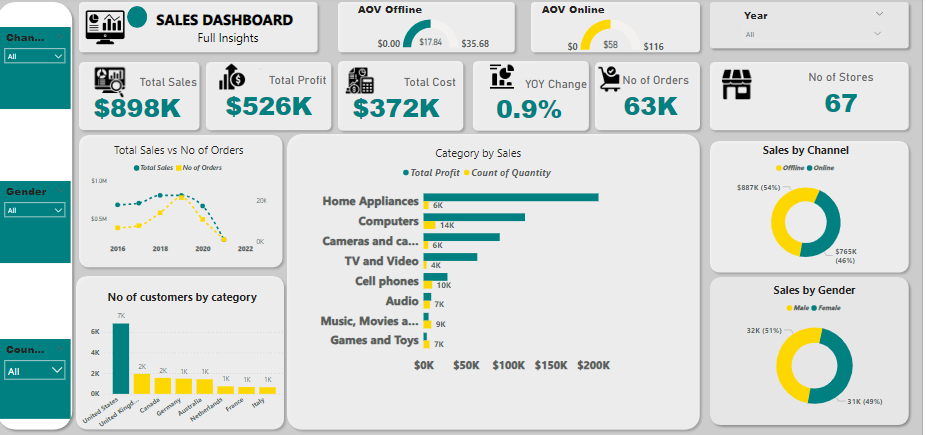

What the dashboard file says about the page in this screenshot:
{"tool":"powerbi","page":{"name":"Page 1","canvas":[1700,800],"ordinal":0},"visuals":[{"type":"image","box":[341.3,122.4,301,15.8],"z":0},{"type":"shape","box":[0,0,155.7,800],"z":1000},{"type":"shape","box":[150,110,238.6,142.9],"z":2000},{"type":"shape","box":[382.9,110,247.1,142.9],"z":3000},{"type":"shape","box":[622.9,107.1,247.1,145.7],"z":4000},{"type":"shape","box":[144.3,501.4,398.6,298.6],"z":5000},{"type":"shape","box":[870,107.1,230,145.7],"z":6000},{"type":"shape","box":[150,242.9,390,260],"z":7000},{"type":"shape","box":[530,241.4,772.9,558.6],"z":8000},{"type":"shape","box":[150,0,454.3,110],"z":9000},{"type":"textbox","box":[247.1,15.7,357.1,57.1],"z":10000},{"type":"textbox","box":[341.4,54.3,178.6,40],"z":11000},{"type":"shape","box":[247.1,15.7,37.1,40],"z":12000},{"type":"card","title":"Total Sales","fields":{"Values":["Sum(Electronics Product Analysis.Revenue)"]},"box":[150,142.9,230,92.9],"z":13000},{"type":"card","title":"Total Profit","fields":{"Values":["Sum(Electronics Product Analysis.Profit)"]},"box":[395.7,138.6,221.4,92.9],"z":14000},{"type":"card","title":"Total Cost","fields":{"Values":["Sum(Electronics Product Analysis. Unit Cost)"]},"box":[622.9,142.9,230,92.9],"z":15000},{"type":"card","title":"YOY Change","fields":{"Values":["All measures.YOY Change"]},"box":[870,147.1,222.9,88.6],"z":16000},{"type":"shape","box":[1092.9,110,210,142.9],"z":17000},{"type":"card","title":"No of Orders","fields":{"Values":["CountNonNull(Sales.Order Number)"]},"box":[1128.6,138.6,151.4,92.9],"z":18000},{"type":"lineChart","title":"Total Sales vs No of Orders","fields":{"Category":["Sales.Year"],"Y":["All measures.Total Sales"],"Y2":["CountNonNull(Sales.Order Number)"]},"box":[175.7,265.7,331.4,212.9],"z":19000},{"type":"clusteredBarChart","title":"Category by Sales","fields":{"Y":["All measures.Total Profit","CountNonNull(Sales.Quantity)"],"Category":["Electronics Product Analysis.Category"]},"box":[575.7,271.4,625.7,427.1],"z":20000},{"type":"shape","box":[1302.9,254.3,381.4,258.6],"z":21000},{"type":"clusteredColumnChart","title":"No of customers by category","fields":{"Y":["CountNonNull(Customers.CustomerKey)"],"Category":["Customers.Country"]},"box":[155.7,534.3,384.3,265.7],"z":22000},{"type":"donutChart","title":"Sales by Channel","fields":{"Category":["Sales.Means of Purchase"],"Y":["All measures.Total Sales"]},"box":[1352.9,264.3,270,237.1],"z":23000},{"type":"slicer","fields":{"Values":["Customers.Country"]},"box":[12.9,625.7,131.4,145.7],"z":24000},{"type":"slicer","fields":{"Values":["Customers.Gender"]},"box":[12.9,335.7,131.4,150],"z":25000},{"type":"slicer","fields":{"Values":["Sales.Means of Purchase"]},"box":[12.9,54.3,131.4,150],"z":26000},{"type":"shape","box":[1302.9,110,381.4,142.9],"z":27000},{"type":"shape","box":[1302.9,502.9,381.4,288.6],"z":28000},{"type":"shape","box":[1302.9,0,381.4,102.9],"z":29000},{"type":"donutChart","title":"Sales by Gender","fields":{"Y":["CountNonNull(Sales.Means of Purchase)"],"Category":["Customers.Gender"]},"box":[1340,521.4,327.1,250],"z":30000},{"type":"slicer","fields":{"Values":["Sales.Year"]},"box":[1361.4,17.1,280,78.6],"z":31000},{"type":"card","title":"No of Stores","fields":{"Values":["Count(Stores.StoreKey)"]},"box":[1437.1,134.3,230,92.9],"z":32000},{"type":"shape","box":[975.7,0,327.1,110],"z":33000},{"type":"gauge","title":"AOV Online","fields":{"Y":["All measures.OnlineAOV"]},"box":[1000,10,280,97.1],"z":34000},{"type":"shape","box":[622.9,0,341.4,110],"z":35000},{"type":"gauge","title":"AOV Offline","fields":{"Y":["All measures.OfflineAOV"]},"box":[662.9,10,285.7,92.9],"z":36000},{"type":"image","box":[165.7,0,81.4,110],"z":37000},{"type":"image","box":[127.1,122.9,174.3,67.1],"z":38000},{"type":"image","box":[301.4,117.1,274.3,57.1],"z":39000},{"type":"image","box":[530,121.4,284.3,64.3],"z":40000},{"type":"image","box":[852.9,117.1,157.1,57.1],"z":41000},{"type":"image","box":[1100,105.7,55.7,87.1],"z":42000},{"type":"image","box":[1302.9,127.1,115.7,64.3],"z":43000}]}

Visuals, with their boxes in screenshot pixels (x1, y1, x2, y2), scaled from the page's 1700x800 canvas onto the 926x435 screenshot:
image: detection(186, 67, 350, 75)
shape: detection(0, 0, 85, 434)
shape: detection(82, 60, 212, 138)
shape: detection(209, 60, 343, 138)
shape: detection(339, 58, 474, 137)
shape: detection(79, 273, 296, 434)
shape: detection(474, 58, 599, 137)
shape: detection(82, 132, 294, 273)
shape: detection(289, 131, 710, 434)
shape: detection(82, 0, 329, 60)
textbox: detection(135, 9, 329, 40)
textbox: detection(186, 30, 283, 51)
shape: detection(135, 9, 155, 30)
"Total Sales" card: detection(82, 78, 207, 128)
"Total Profit" card: detection(216, 75, 336, 126)
"Total Cost" card: detection(339, 78, 465, 128)
"YOY Change" card: detection(474, 80, 595, 128)
shape: detection(595, 60, 710, 138)
"No of Orders" card: detection(615, 75, 697, 126)
"Total Sales vs No of Orders" lineChart: detection(96, 144, 276, 260)
"Category by Sales" clusteredBarChart: detection(314, 148, 654, 380)
shape: detection(710, 138, 917, 279)
"No of customers by category" clusteredColumnChart: detection(85, 291, 294, 434)
"Sales by Channel" donutChart: detection(737, 144, 884, 273)
slicer - Customers.Country: detection(7, 340, 79, 419)
slicer - Customers.Gender: detection(7, 183, 79, 264)
slicer - Sales.Means of Purchase: detection(7, 30, 79, 111)
shape: detection(710, 60, 917, 138)
shape: detection(710, 273, 917, 430)
shape: detection(710, 0, 917, 56)
"Sales by Gender" donutChart: detection(730, 284, 908, 419)
slicer - Sales.Year: detection(742, 9, 894, 52)
"No of Stores" card: detection(783, 73, 908, 124)
shape: detection(531, 0, 710, 60)
"AOV Online" gauge: detection(545, 5, 697, 58)
shape: detection(339, 0, 525, 60)
"AOV Offline" gauge: detection(361, 5, 517, 56)
image: detection(90, 0, 135, 60)
image: detection(69, 67, 164, 103)
image: detection(164, 64, 314, 95)
image: detection(289, 66, 444, 101)
image: detection(465, 64, 550, 95)
image: detection(599, 57, 630, 105)
image: detection(710, 69, 773, 104)
